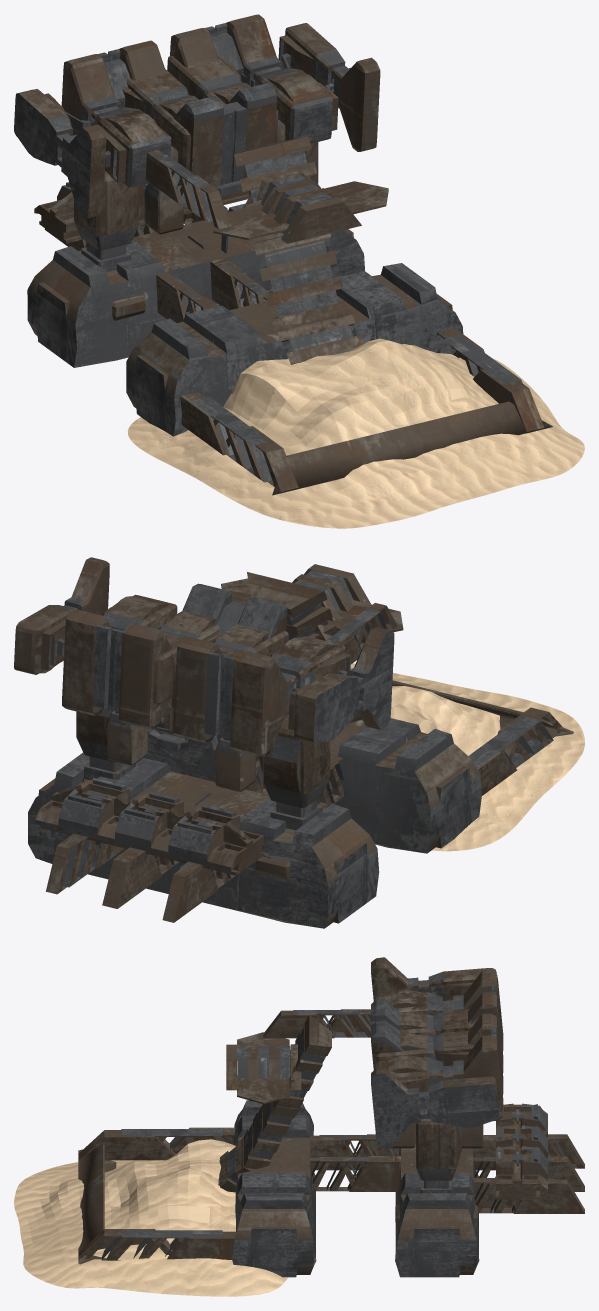
File: Sand_Mine.gltf
3 views of the same model, one above another, from view 1: azimuth 30°, elevation 25°; view 2: azimuth 150°, elevation 25°; view 3: azimuth 270°, elevation 25° (orthographic). The views are drawn at different scales.
Parts seen in each view (by area): view 1: Sand_Mine; view 2: Sand_Mine; view 3: Sand_Mine.
Boxes of the visible parts, x1,y1,x2,y2 form: Sand_Mine: (14, 14, 584, 528); Sand_Mine: (14, 557, 584, 928); Sand_Mine: (14, 957, 584, 1296).
Bounding box in the file's own units: 9.98 × 6.86 × 16.63.
3 materials, 3 textured.
